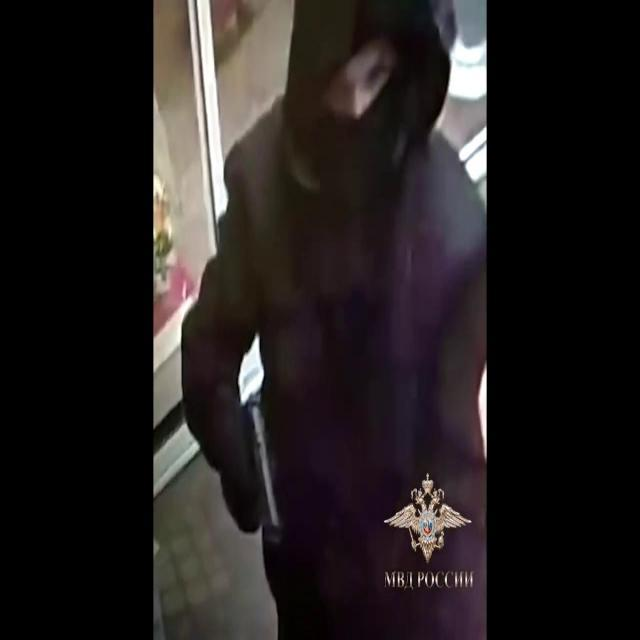pistol: (234, 396, 282, 554)
